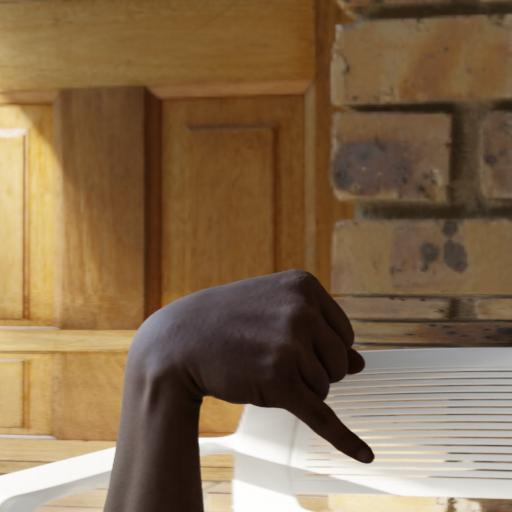J: (112, 253, 412, 491)
